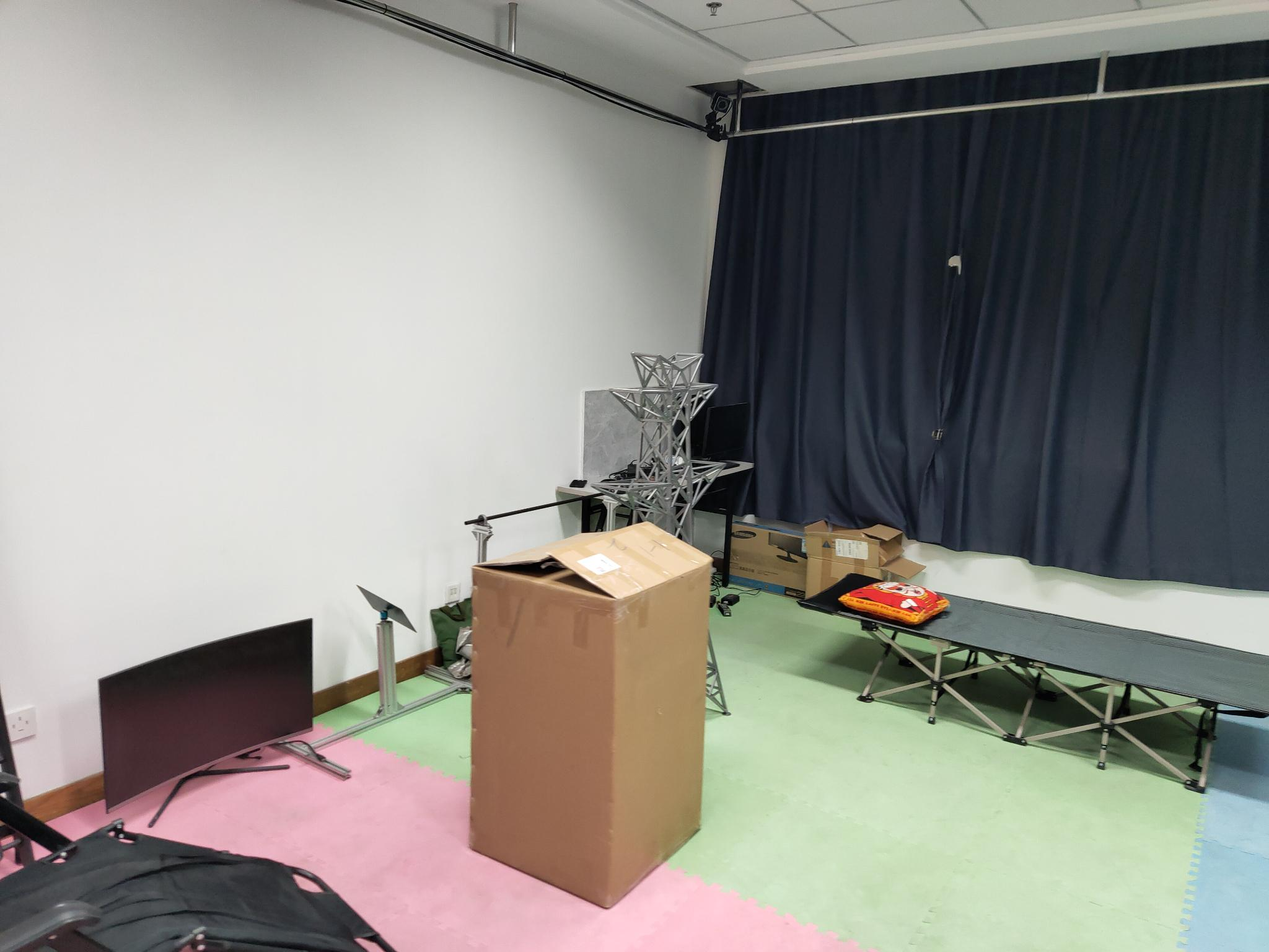tower: (591, 351, 727, 528)
